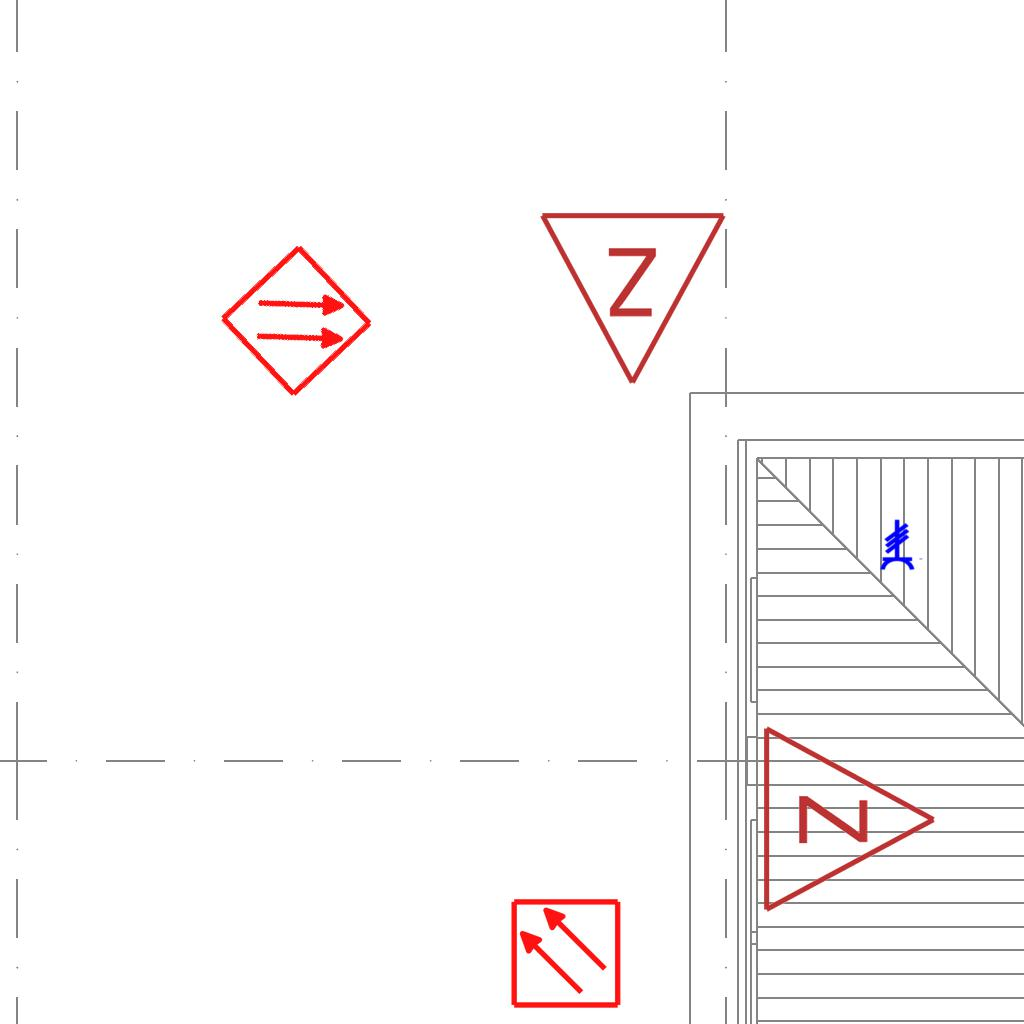CEE_Drehstrom_Steckdose_16_32_A: (879, 519, 924, 571)
RMO_Rauchmelder_optischer: (216, 240, 377, 401), (509, 897, 622, 1010)
Zimmersignalleuchte: (537, 198, 733, 398), (749, 719, 949, 915)
